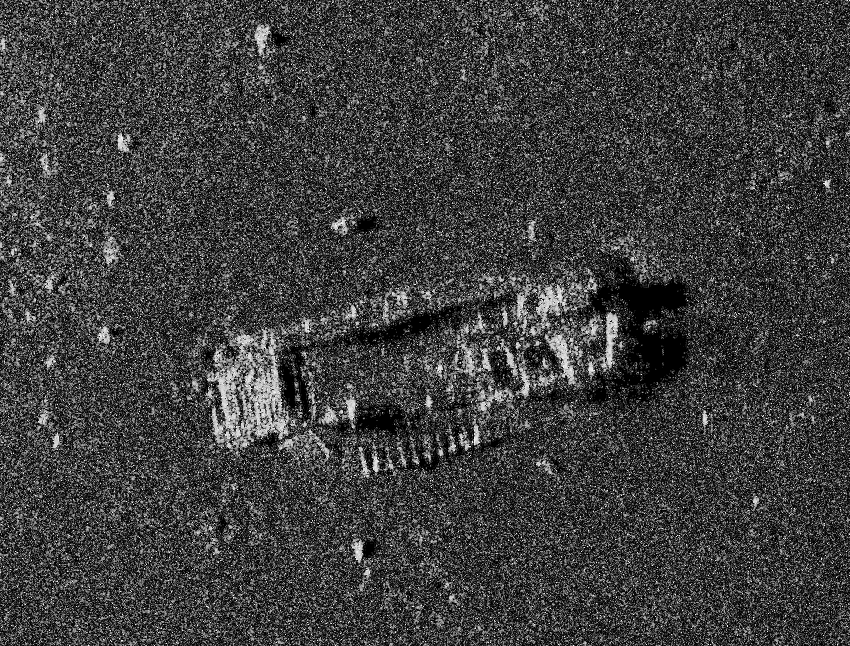ship: (206, 260, 635, 477)
